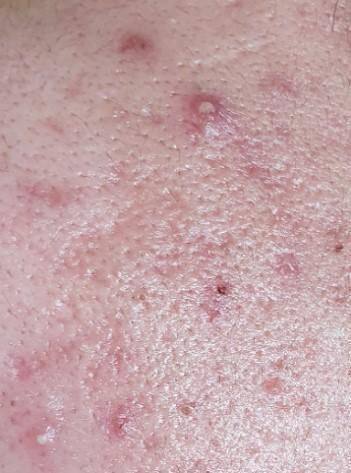purulent: (187, 82, 247, 138), (25, 411, 82, 468)
sebo-crystan-conglo: (100, 10, 173, 80)
